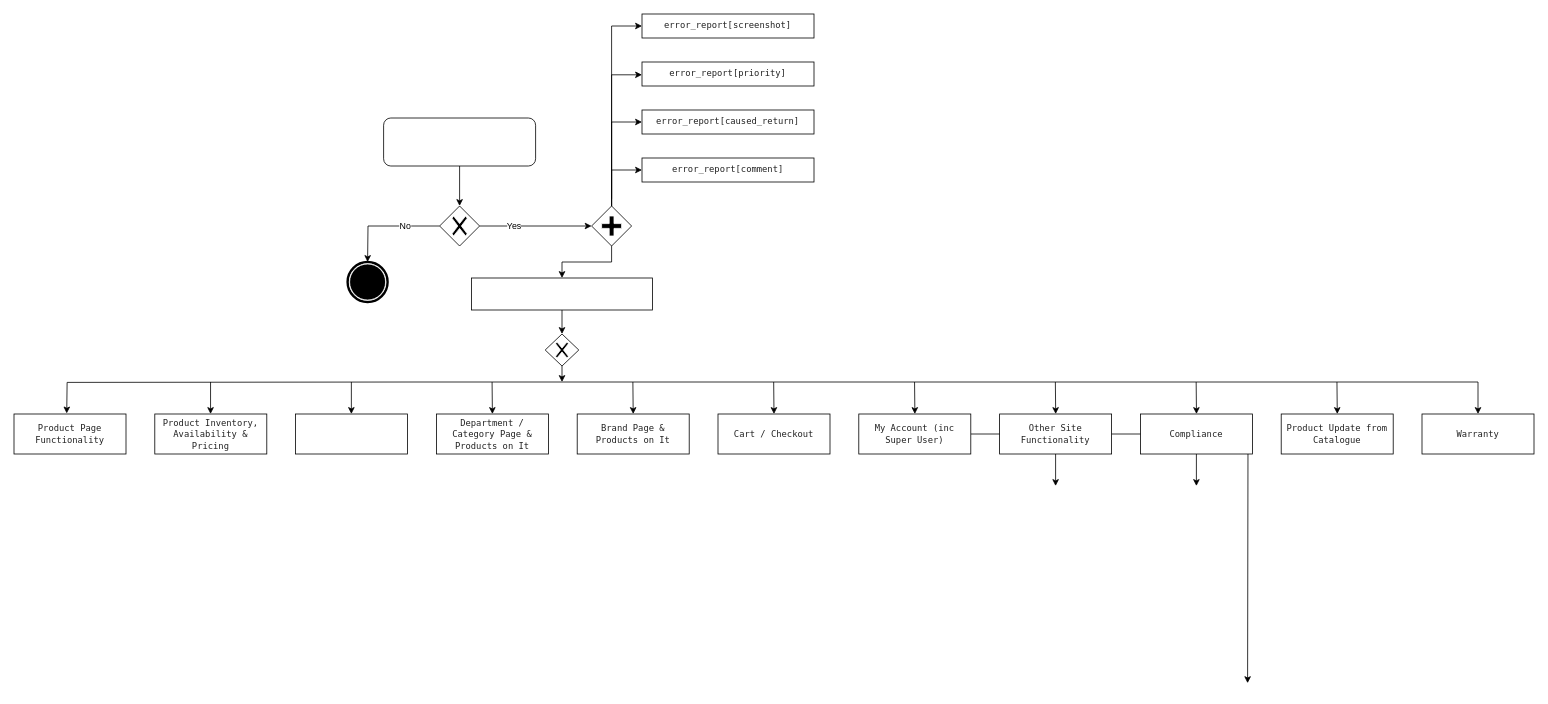
Some shapes in this 1548 by 704 pixel diagram are drawn without their labels. The shapes that lost their labels are listed below. From the top down, each one's box as (x1, y1, x2, y2) in pixels, then its label:
(383, 117, 536, 166): problem_need_reported
(471, 277, 652, 310): error_report[problemTypeId][0]
(295, 413, 408, 454): Other Product Data
